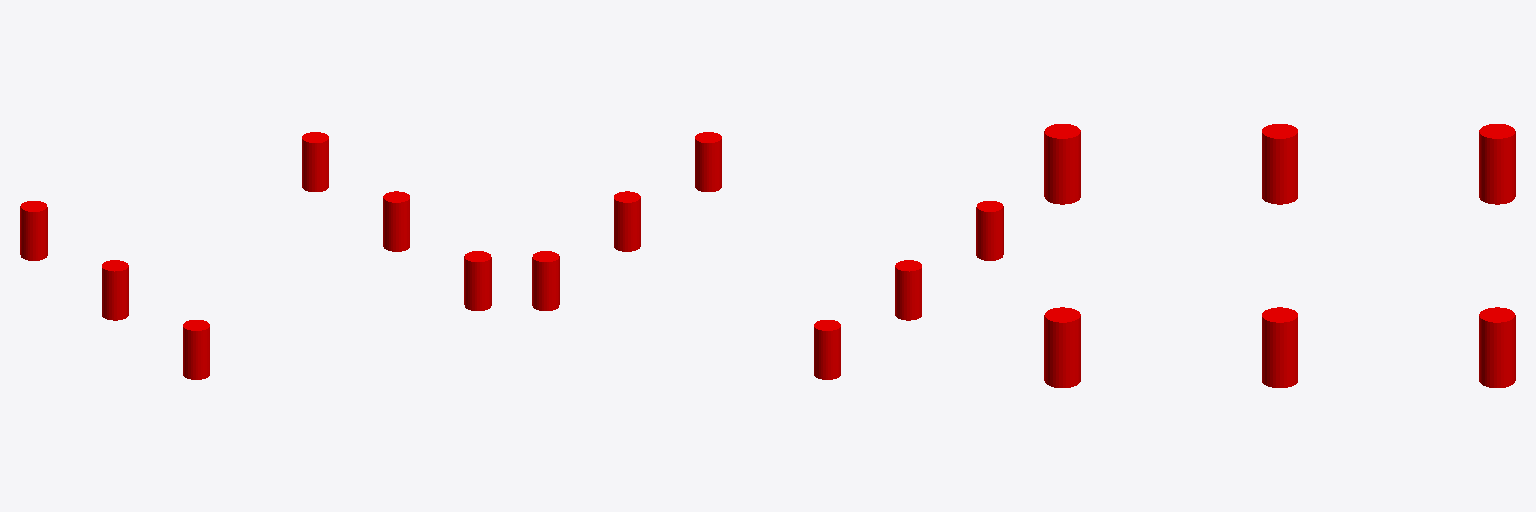
The robot description file, URDF, robot "robot":
<?xml version="1.0" ?>
<robot name="robot">
  <material name="red">
    <color rgba="1.0 0.0 0.0 1.0"/>
  </material>
  <material name="seethrough">
    <color rgba="1.0 0.0 0.0 0.25"/>
  </material>
  <link name="restaurant_base_link"/>
  <link name="chair_1">
    <collision>
      <origin rpy="0 0 0" xyz="0 0 0"/>
      <geometry>
        <!--            <mesh filename="package://mmseq_assets/scenes/meshes/model.dae"/>-->
        <mesh filename="file://[local-path]/Projects/mm_catkin_ws/src/mm_sequential_tasks/mmseq_assets/scenes/meshes/model.dae"/>
      </geometry>
    </collision>
    <visual>
      <origin rpy="0 0 0" xyz="0 0 0"/>
      <geometry>
        <mesh filename="file://[local-path]/Projects/mm_catkin_ws/src/mm_sequential_tasks/mmseq_assets/scenes/meshes/model.dae"/>
      </geometry>
    </visual>
  </link>
  <joint name="chair_1_joint" type="fixed">
    <origin rpy="0 0 0" xyz="-3. -3. 0."/>
    <parent link="restaurant_base_link"/>
    <child link="chair_1"/>
  </joint>
  <link name="chair_1_collision_link">
    <collision>
      <origin rpy="0 0 0" xyz="0 0 0"/>
      <geometry>
        <cylinder length="1." radius="0.25"/>
      </geometry>
    </collision>
    <visual>
      <origin rpy="0 0 0" xyz="0 0 0"/>
      <geometry>
        <cylinder length="1." radius="0.25"/>
      </geometry>
      <material name="seethrough"/>
    </visual>
  </link>
  <joint name="chair_1_collision_link_joint" type="fixed">
    <origin rpy="0 0 0" xyz="0.175 0.175 0.5"/>
    <parent link="chair_1"/>
    <child link="chair_1_collision_link"/>
  </joint>
  <link name="chair_2">
    <collision>
      <origin rpy="0 0 0" xyz="0 0 0"/>
      <geometry>
        <!--            <mesh filename="package://mmseq_assets/scenes/meshes/model.dae"/>-->
        <mesh filename="file://[local-path]/Projects/mm_catkin_ws/src/mm_sequential_tasks/mmseq_assets/scenes/meshes/model.dae"/>
      </geometry>
    </collision>
    <visual>
      <origin rpy="0 0 0" xyz="0 0 0"/>
      <geometry>
        <mesh filename="file://[local-path]/Projects/mm_catkin_ws/src/mm_sequential_tasks/mmseq_assets/scenes/meshes/model.dae"/>
      </geometry>
    </visual>
  </link>
  <joint name="chair_2_joint" type="fixed">
    <origin rpy="0 0 0" xyz="-3. 0. 0."/>
    <parent link="restaurant_base_link"/>
    <child link="chair_2"/>
  </joint>
  <link name="chair_2_collision_link">
    <collision>
      <origin rpy="0 0 0" xyz="0 0 0"/>
      <geometry>
        <cylinder length="1." radius="0.25"/>
      </geometry>
    </collision>
    <visual>
      <origin rpy="0 0 0" xyz="0 0 0"/>
      <geometry>
        <cylinder length="1." radius="0.25"/>
      </geometry>
      <material name="seethrough"/>
    </visual>
  </link>
  <joint name="chair_2_collision_link_joint" type="fixed">
    <origin rpy="0 0 0" xyz="0.175 0.175 0.5"/>
    <parent link="chair_2"/>
    <child link="chair_2_collision_link"/>
  </joint>
  <link name="chair_3">
    <collision>
      <origin rpy="0 0 0" xyz="0 0 0"/>
      <geometry>
        <!--            <mesh filename="package://mmseq_assets/scenes/meshes/model.dae"/>-->
        <mesh filename="file://[local-path]/Projects/mm_catkin_ws/src/mm_sequential_tasks/mmseq_assets/scenes/meshes/model.dae"/>
      </geometry>
    </collision>
    <visual>
      <origin rpy="0 0 0" xyz="0 0 0"/>
      <geometry>
        <mesh filename="file://[local-path]/Projects/mm_catkin_ws/src/mm_sequential_tasks/mmseq_assets/scenes/meshes/model.dae"/>
      </geometry>
    </visual>
  </link>
  <joint name="chair_3_joint" type="fixed">
    <origin rpy="0 0 0" xyz="-3. 3. 0."/>
    <parent link="restaurant_base_link"/>
    <child link="chair_3"/>
  </joint>
  <link name="chair_3_collision_link">
    <collision>
      <origin rpy="0 0 0" xyz="0 0 0"/>
      <geometry>
        <cylinder length="1." radius="0.25"/>
      </geometry>
    </collision>
    <visual>
      <origin rpy="0 0 0" xyz="0 0 0"/>
      <geometry>
        <cylinder length="1." radius="0.25"/>
      </geometry>
      <material name="seethrough"/>
    </visual>
  </link>
  <joint name="chair_3_collision_link_joint" type="fixed">
    <origin rpy="0 0 0" xyz="0.175 0.175 0.5"/>
    <parent link="chair_3"/>
    <child link="chair_3_collision_link"/>
  </joint>
  <link name="chair_4">
    <collision>
      <origin rpy="0 0 0" xyz="0 0 0"/>
      <geometry>
        <!--            <mesh filename="package://mmseq_assets/scenes/meshes/model.dae"/>-->
        <mesh filename="file://[local-path]/Projects/mm_catkin_ws/src/mm_sequential_tasks/mmseq_assets/scenes/meshes/model.dae"/>
      </geometry>
    </collision>
    <visual>
      <origin rpy="0 0 0" xyz="0 0 0"/>
      <geometry>
        <mesh filename="file://[local-path]/Projects/mm_catkin_ws/src/mm_sequential_tasks/mmseq_assets/scenes/meshes/model.dae"/>
      </geometry>
    </visual>
  </link>
  <joint name="chair_4_joint" type="fixed">
    <origin rpy="0 0 0" xyz="3. -3. 0."/>
    <parent link="restaurant_base_link"/>
    <child link="chair_4"/>
  </joint>
  <link name="chair_4_collision_link">
    <collision>
      <origin rpy="0 0 0" xyz="0 0 0"/>
      <geometry>
        <cylinder length="1." radius="0.25"/>
      </geometry>
    </collision>
    <visual>
      <origin rpy="0 0 0" xyz="0 0 0"/>
      <geometry>
        <cylinder length="1." radius="0.25"/>
      </geometry>
      <material name="seethrough"/>
    </visual>
  </link>
  <joint name="chair_4_collision_link_joint" type="fixed">
    <origin rpy="0 0 0" xyz="0.175 0.175 0.5"/>
    <parent link="chair_4"/>
    <child link="chair_4_collision_link"/>
  </joint>
  <link name="chair_5">
    <collision>
      <origin rpy="0 0 0" xyz="0 0 0"/>
      <geometry>
        <!--            <mesh filename="package://mmseq_assets/scenes/meshes/model.dae"/>-->
        <mesh filename="file://[local-path]/Projects/mm_catkin_ws/src/mm_sequential_tasks/mmseq_assets/scenes/meshes/model.dae"/>
      </geometry>
    </collision>
    <visual>
      <origin rpy="0 0 0" xyz="0 0 0"/>
      <geometry>
        <mesh filename="file://[local-path]/Projects/mm_catkin_ws/src/mm_sequential_tasks/mmseq_assets/scenes/meshes/model.dae"/>
      </geometry>
    </visual>
  </link>
  <joint name="chair_5_joint" type="fixed">
    <origin rpy="0 0 0" xyz="3. 0. 0."/>
    <parent link="restaurant_base_link"/>
    <child link="chair_5"/>
  </joint>
  <link name="chair_5_collision_link">
    <collision>
      <origin rpy="0 0 0" xyz="0 0 0"/>
      <geometry>
        <cylinder length="1." radius="0.25"/>
      </geometry>
    </collision>
    <visual>
      <origin rpy="0 0 0" xyz="0 0 0"/>
      <geometry>
        <cylinder length="1." radius="0.25"/>
      </geometry>
      <material name="seethrough"/>
    </visual>
  </link>
  <joint name="chair_5_collision_link_joint" type="fixed">
    <origin rpy="0 0 0" xyz="0.175 0.175 0.5"/>
    <parent link="chair_5"/>
    <child link="chair_5_collision_link"/>
  </joint>
  <link name="chair_6">
    <collision>
      <origin rpy="0 0 0" xyz="0 0 0"/>
      <geometry>
        <!--            <mesh filename="package://mmseq_assets/scenes/meshes/model.dae"/>-->
        <mesh filename="file://[local-path]/Projects/mm_catkin_ws/src/mm_sequential_tasks/mmseq_assets/scenes/meshes/model.dae"/>
      </geometry>
    </collision>
    <visual>
      <origin rpy="0 0 0" xyz="0 0 0"/>
      <geometry>
        <mesh filename="file://[local-path]/Projects/mm_catkin_ws/src/mm_sequential_tasks/mmseq_assets/scenes/meshes/model.dae"/>
      </geometry>
    </visual>
  </link>
  <joint name="chair_6_joint" type="fixed">
    <origin rpy="0 0 0" xyz="3. 3. 0."/>
    <parent link="restaurant_base_link"/>
    <child link="chair_6"/>
  </joint>
  <link name="chair_6_collision_link">
    <collision>
      <origin rpy="0 0 0" xyz="0 0 0"/>
      <geometry>
        <cylinder length="1." radius="0.25"/>
      </geometry>
    </collision>
    <visual>
      <origin rpy="0 0 0" xyz="0 0 0"/>
      <geometry>
        <cylinder length="1." radius="0.25"/>
      </geometry>
      <material name="seethrough"/>
    </visual>
  </link>
  <joint name="chair_6_collision_link_joint" type="fixed">
    <origin rpy="0 0 0" xyz="0.175 0.175 0.5"/>
    <parent link="chair_6"/>
    <child link="chair_6_collision_link"/>
  </joint>
</robot>

--- What the picture shows (computed from the rendered views, not written in the file) ---
The picture shows the robot from 3 angles, left to right: view 1: azimuth 30°, elevation 25°; view 2: azimuth 150°, elevation 25°; view 3: azimuth 270°, elevation 25°; orthographic projection.
Model robot with 13 links and 12 joints (12 fixed), rooted at restaurant_base_link, posed all joints at 0.
Links seen in each view (by area): view 1: chair_3_collision_link, chair_4_collision_link, chair_2_collision_link, chair_5_collision_link, chair_1_collision_link, chair_6_collision_link; view 2: chair_1_collision_link, chair_6_collision_link, chair_2_collision_link, chair_5_collision_link, chair_3_collision_link, chair_4_collision_link; view 3: chair_1_collision_link, chair_3_collision_link, chair_4_collision_link, chair_6_collision_link, chair_2_collision_link, chair_5_collision_link.
Boxes of the visible links, x1,y1,x2,y2 form: chair_3_collision_link: (20,201,47,260); chair_4_collision_link: (464,251,491,310); chair_2_collision_link: (102,260,128,320); chair_5_collision_link: (383,191,409,251); chair_1_collision_link: (183,320,209,379); chair_6_collision_link: (302,132,328,191); chair_1_collision_link: (976,201,1003,260); chair_6_collision_link: (532,251,559,310); chair_2_collision_link: (895,260,921,320); chair_5_collision_link: (614,191,640,251); chair_3_collision_link: (814,320,840,379); chair_4_collision_link: (695,132,721,191); chair_1_collision_link: (1044,124,1080,204); chair_3_collision_link: (1479,124,1515,204); chair_4_collision_link: (1044,307,1080,387); chair_6_collision_link: (1479,307,1515,387); chair_2_collision_link: (1262,124,1297,204); chair_5_collision_link: (1262,307,1297,387).
Size in the robot's own frame: 6.5 by 6.5 by 1 metres.
Geometry: only primitive shapes (box / cylinder / sphere) drawn; not drawn: 6 mesh visuals (reference in a form the renderer does not follow).